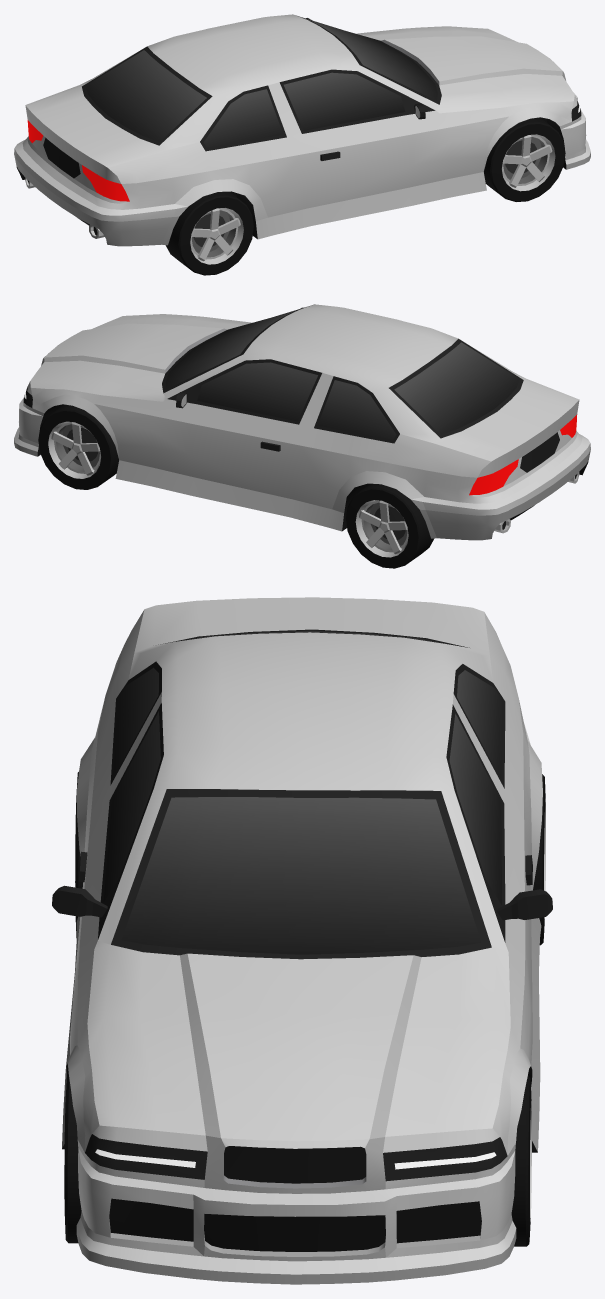
File: Car_211.glb
The picture shows the model from 3 angles, top to bottom: view 1: azimuth 30°, elevation 25°; view 2: azimuth 150°, elevation 25°; view 3: azimuth 270°, elevation 25°; orthographic projection. The views are drawn at different scales.
Parts seen in each view (by area): view 1: Car_211, wheel_3_Car_211_Wheel_2R, wheel_1_Car_211_Wheel_1R; view 2: Car_211, wheel_2_Car_211_Wheel_2L, wheel_0_Car_211_Wheel_1L; view 3: Car_211, wheel_0_Car_211_Wheel_1L, wheel_1_Car_211_Wheel_1R, wheel_2_Car_211_Wheel_2L.
Part boxes in pixels (x1=…): Car_211: x1=14, y1=14, x2=590, y2=246; wheel_3_Car_211_Wheel_2R: x1=165, y1=191, x2=253, y2=275; wheel_1_Car_211_Wheel_1R: x1=484, y1=117, x2=565, y2=201; Car_211: x1=14, y1=304, x2=590, y2=540; wheel_2_Car_211_Wheel_2L: x1=345, y1=483, x2=434, y2=568; wheel_0_Car_211_Wheel_1L: x1=38, y1=404, x2=118, y2=489; Car_211: x1=52, y1=597, x2=552, y2=1284; wheel_0_Car_211_Wheel_1L: x1=511, y1=1075, x2=531, y2=1246; wheel_1_Car_211_Wheel_1R: x1=64, y1=1073, x2=81, y2=1243; wheel_2_Car_211_Wheel_2L: x1=533, y1=774, x2=545, y2=945.
Bounding box in the file's own units: 4.58 × 1.41 × 1.95.
Materials: 2 (2 with a texture image).
